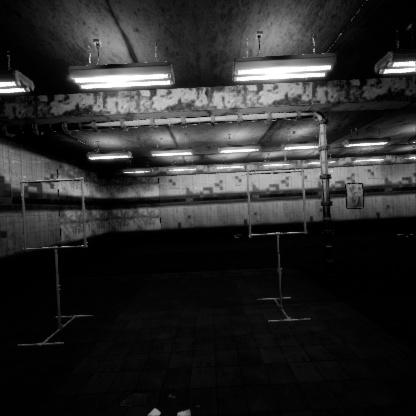gate: (21, 164, 93, 238), (246, 178, 312, 246)
